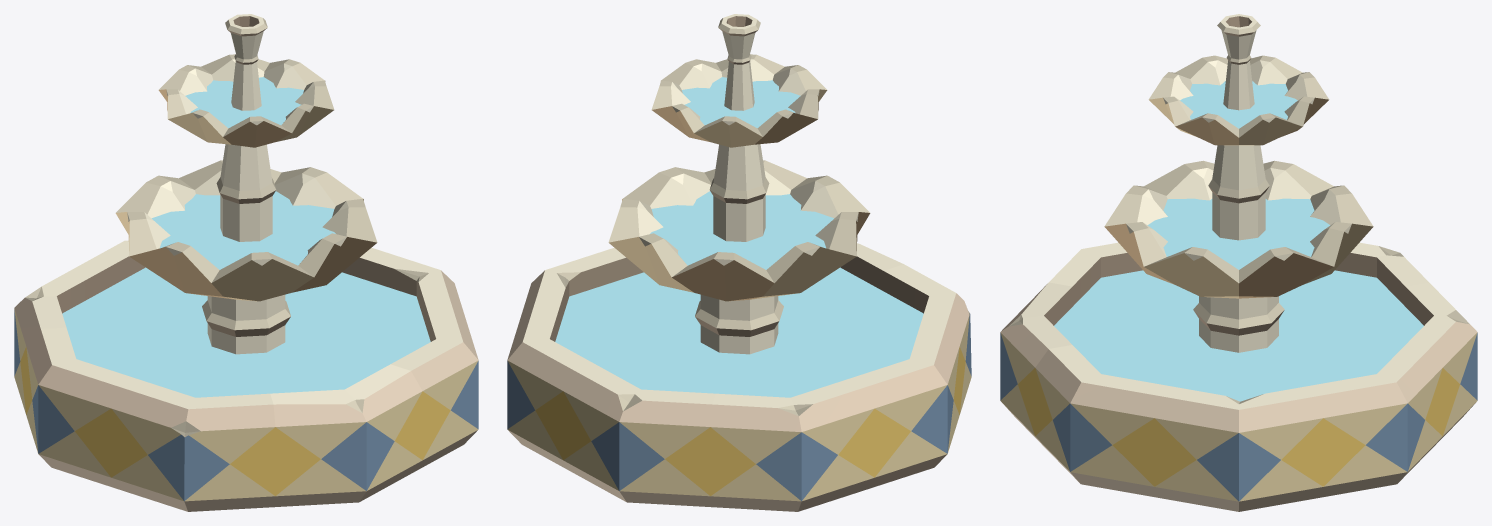
Rendered from Fountain_02.glb.
3 views of the same model, side by side, from view 1: azimuth 30°, elevation 25°; view 2: azimuth 150°, elevation 25°; view 3: azimuth 270°, elevation 25° (orthographic).
Visible parts, largest first — view 1: Fountain_02; view 2: Fountain_02; view 3: Fountain_02.
Boxes of the visible parts, x1,y1,x2,y2 form: Fountain_02: (14, 14, 478, 511); Fountain_02: (507, 14, 971, 511); Fountain_02: (1000, 14, 1477, 511).
Size of what is drawn, in the model's own units: 4.05 by 3.71 by 4.05.
Materials: 1 (1 with a texture image).
